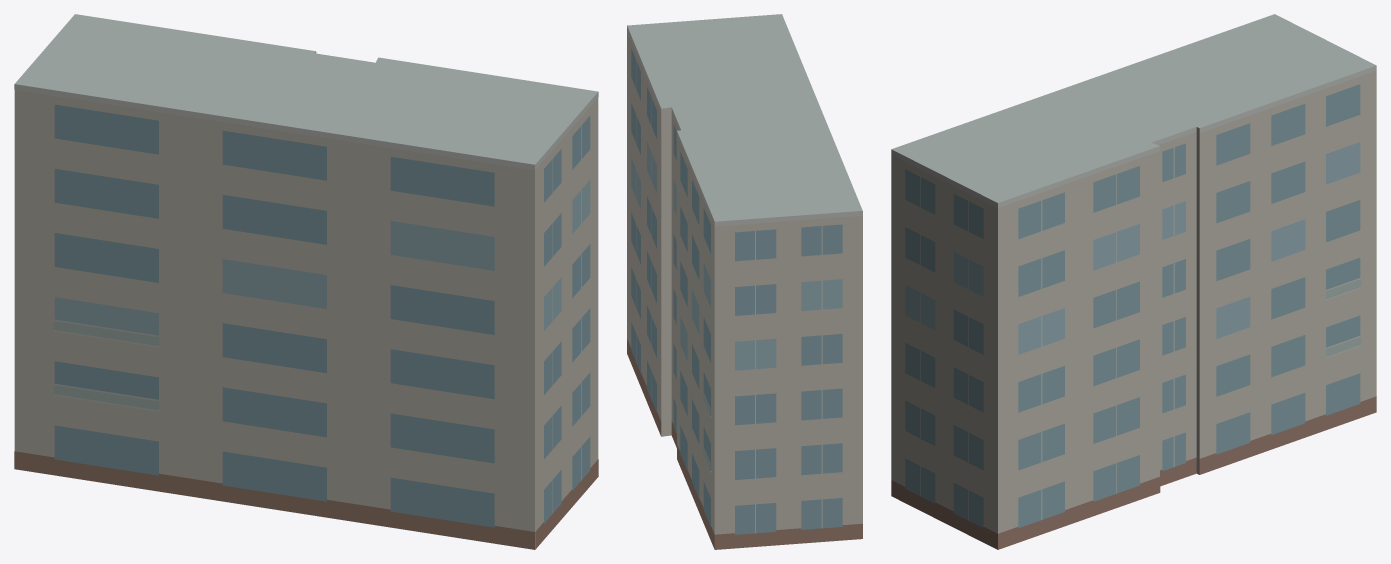
The model's file is survey-upis-32628500.glb.
3 renders of one model, left to right at view 1: azimuth 30°, elevation 25°; view 2: azimuth 150°, elevation 25°; view 3: azimuth 270°, elevation 25°, orthographic. The views are drawn at different scales.
Parts seen in each view (by area): view 1: survey-upis-32628500.tmp; view 2: survey-upis-32628500.tmp; view 3: survey-upis-32628500.tmp.
Part boxes in pixels (x1,y1,x2,y2): survey-upis-32628500.tmp: [14, 14, 598, 549]; survey-upis-32628500.tmp: [627, 14, 862, 549]; survey-upis-32628500.tmp: [891, 14, 1376, 549].
Bounding box in the file's own units: 19.54 × 16.7 × 21.19.
